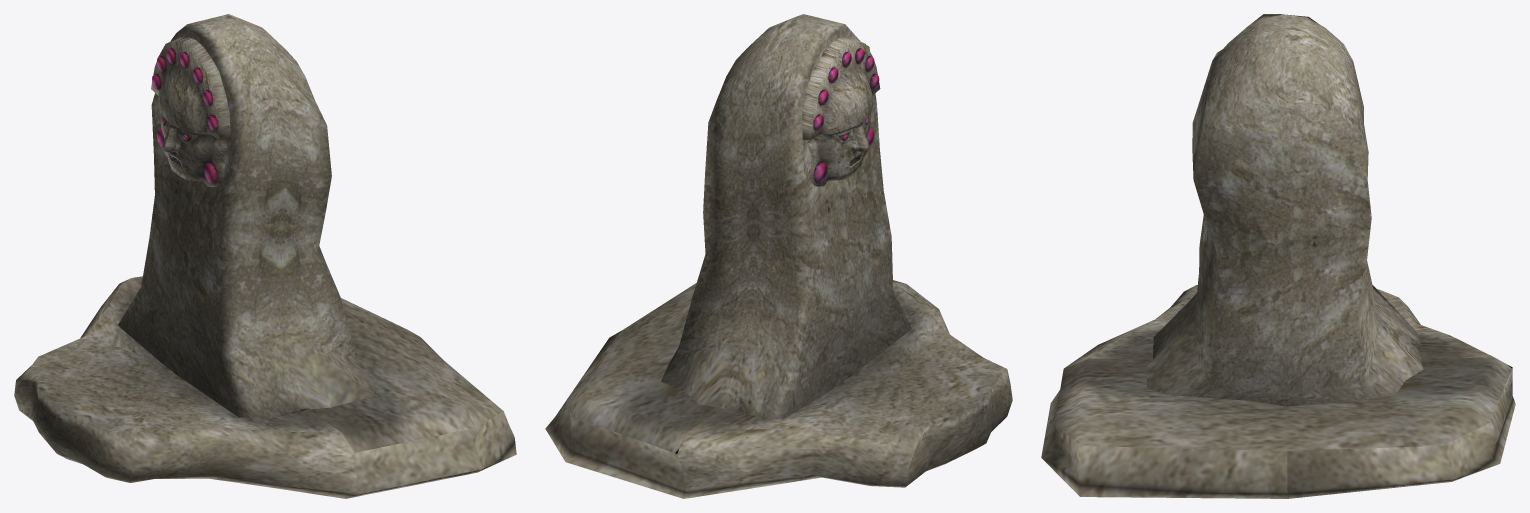
File: Fountain_Main_01.fbx
The picture shows the model from 3 angles, left to right: view 1: azimuth 30°, elevation 25°; view 2: azimuth 150°, elevation 25°; view 3: azimuth 270°, elevation 25°; orthographic projection. The views are drawn at different scales.
Parts seen in each view (by area): view 1: polySurface5; view 2: polySurface5; view 3: polySurface5.
Part boxes in pixels (x1=…): polySurface5: x1=14, y1=14, x2=516, y2=498; polySurface5: x1=545, y1=14, x2=1012, y2=498; polySurface5: x1=1041, y1=14, x2=1515, y2=498.
Bounding box in the file's own units: 9.48 × 9.58 × 10.65.
1 material, 1 textured.
